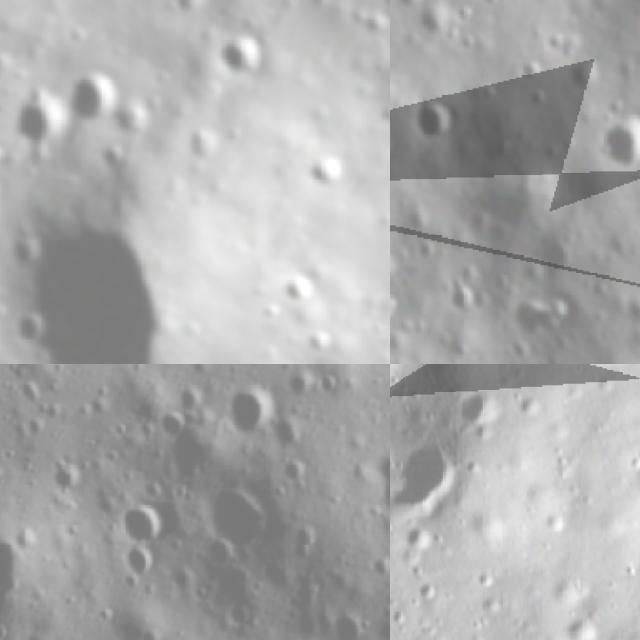crater: (7, 206, 176, 364), (193, 487, 278, 551), (390, 441, 463, 510), (14, 88, 74, 146), (218, 379, 268, 448), (595, 109, 640, 177), (512, 292, 572, 342), (446, 382, 506, 428), (72, 68, 120, 122), (212, 36, 268, 78), (413, 94, 455, 148), (308, 150, 354, 198), (536, 242, 580, 290), (308, 607, 367, 640), (123, 502, 159, 550), (186, 122, 223, 165), (302, 324, 342, 360), (8, 310, 44, 347), (282, 270, 316, 307), (6, 233, 40, 270), (112, 552, 156, 580), (403, 521, 434, 556), (223, 603, 256, 635), (100, 141, 128, 176), (561, 615, 598, 640), (257, 296, 284, 324), (174, 0, 209, 21), (0, 620, 8, 640)
